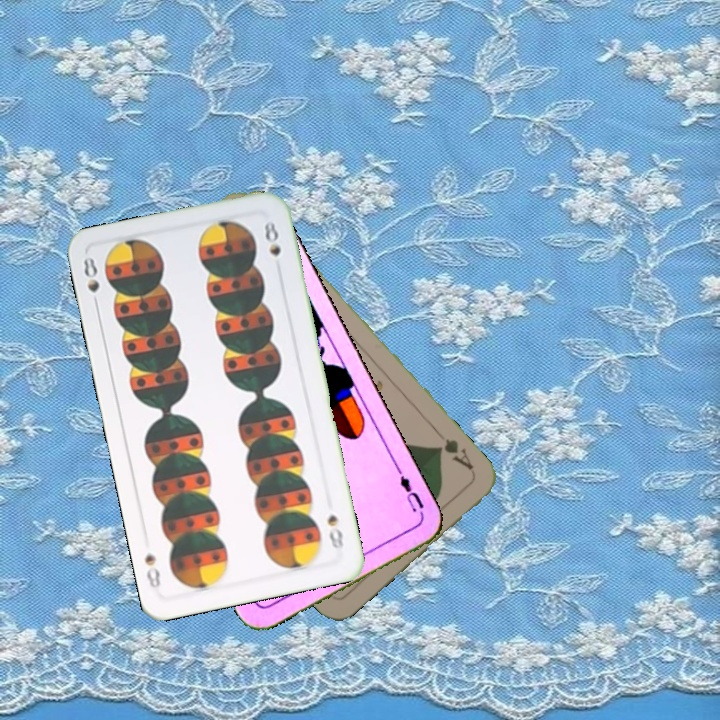EU: (393, 465, 427, 515)
GA: (432, 434, 476, 473)
S8: (79, 252, 102, 312), (323, 510, 347, 556)
